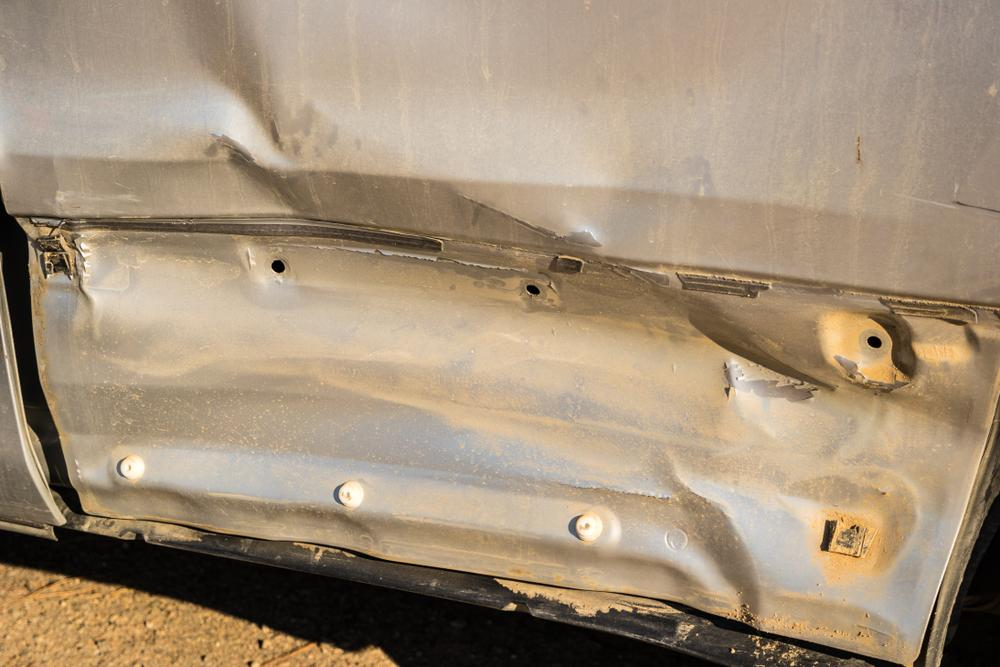dent: (64, 0, 956, 590)
